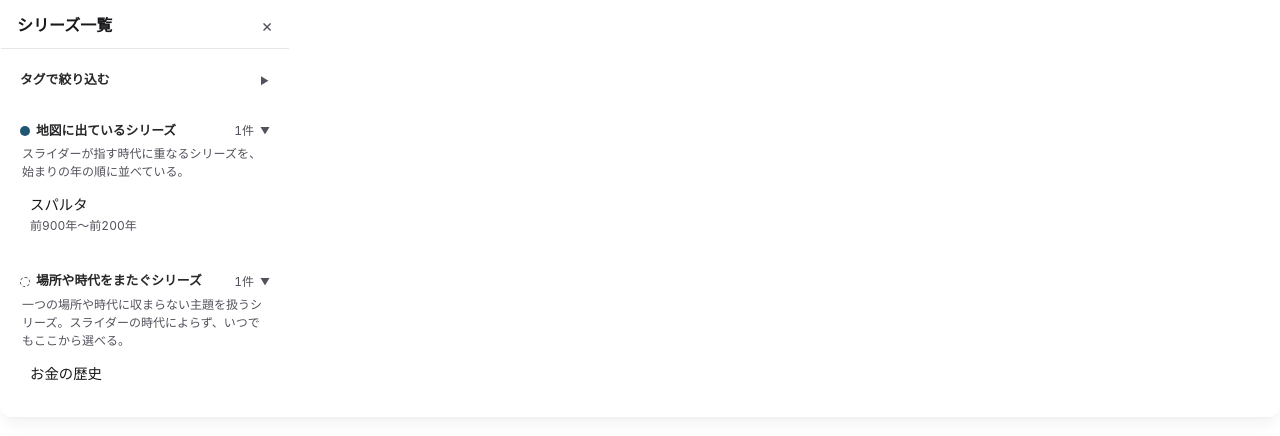
SeriesPanel › 区画の見出しを押すとその区画のシリーズだけを隠し、もう一度押すと戻す
This screenshot has width=1280, height=436.
Step 1. Click the button "地図に出ているシリーズ 1件 ▼" → point(145, 131), box [14, 117, 276, 145]
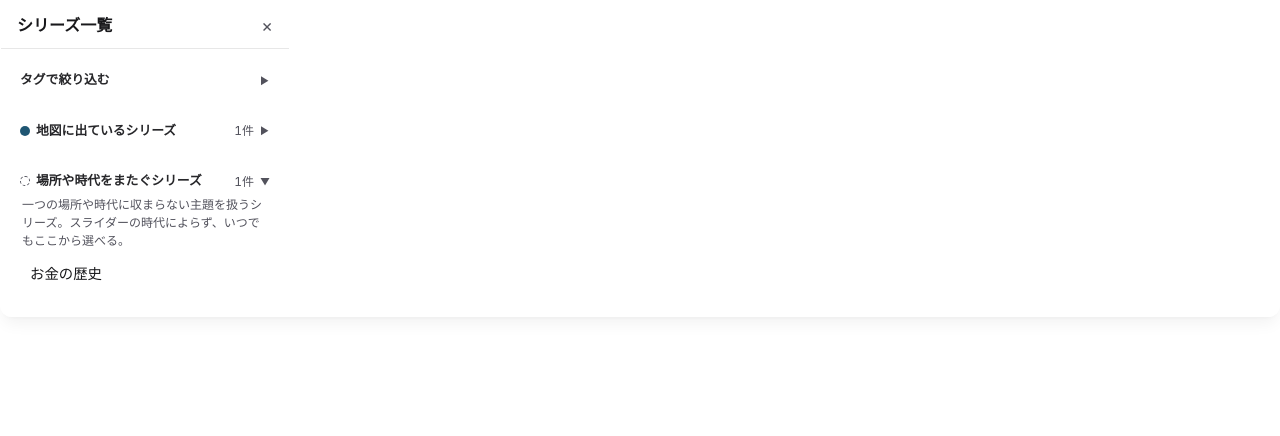
Expected: the button "お金の歴史" is shown, [14, 256, 276, 290]
Expected: the button "スパルタ" is gone
Step 2. Click the button "地図に出ているシリーズ 1件 ▼" → point(145, 131), box [14, 117, 276, 145]
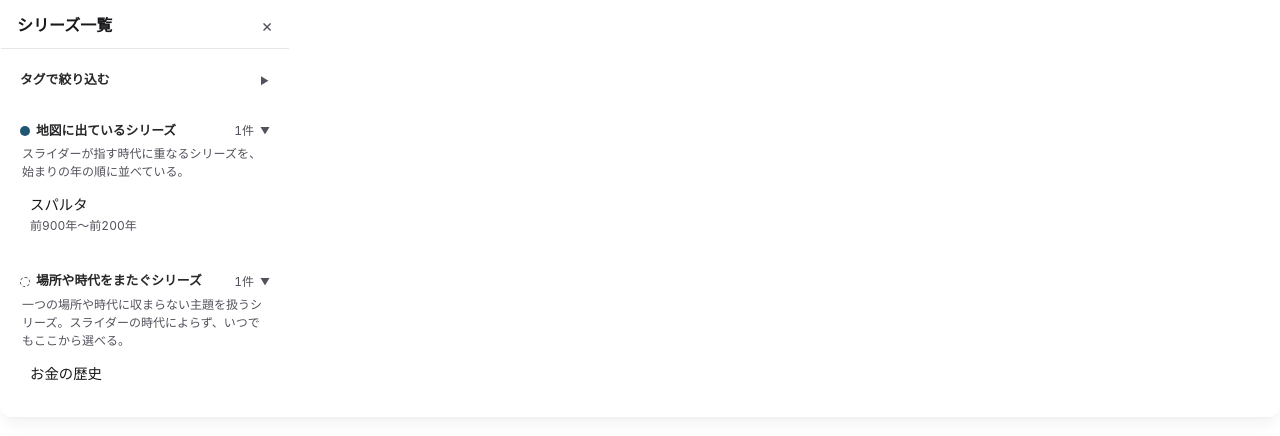
Expected: the button "スパルタ 前900年〜前200年" is shown, [14, 187, 276, 241]
